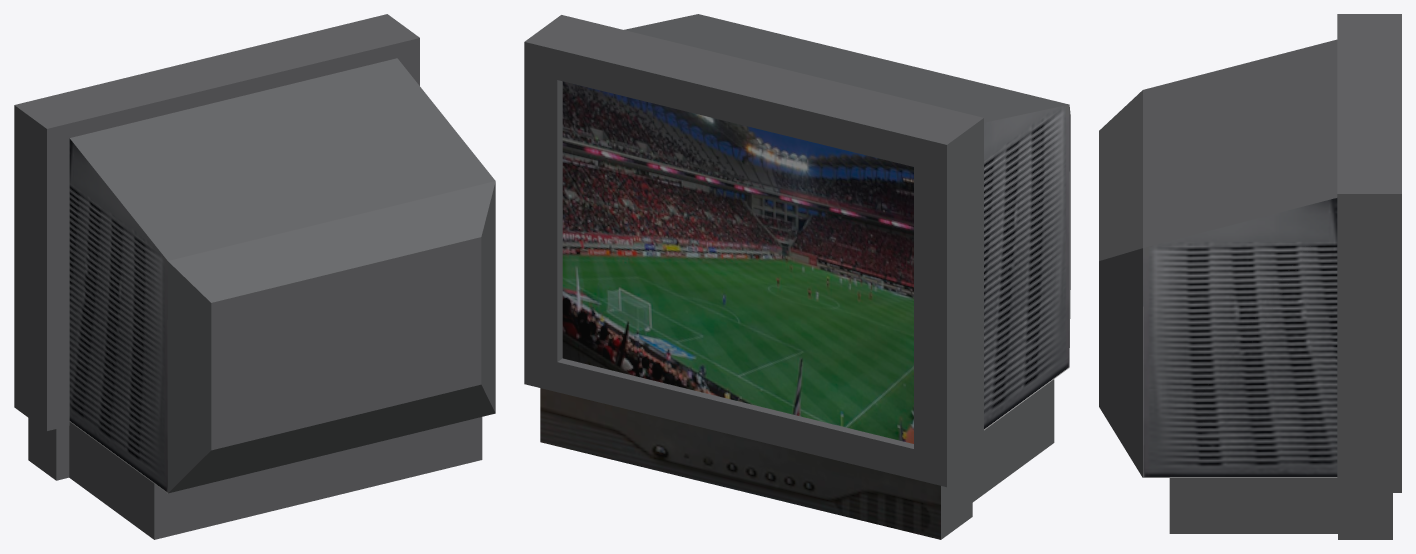
File: television.fbx
3 renders of one model, left to right at view 1: azimuth 30°, elevation 25°; view 2: azimuth 150°, elevation 25°; view 3: azimuth 270°, elevation 25°, orthographic. The views are drawn at different scales.
Parts seen in each view (by area): view 1: Cube; view 2: Cube; view 3: Cube.
Boxes of the visible parts, left/top/right/bottom form: Cube: left=14, top=14, right=495, bottom=539; Cube: left=524, top=14, right=1070, bottom=539; Cube: left=1099, top=14, right=1401, bottom=539.
Bounding box in the file's own units: 299 × 272 × 213.
